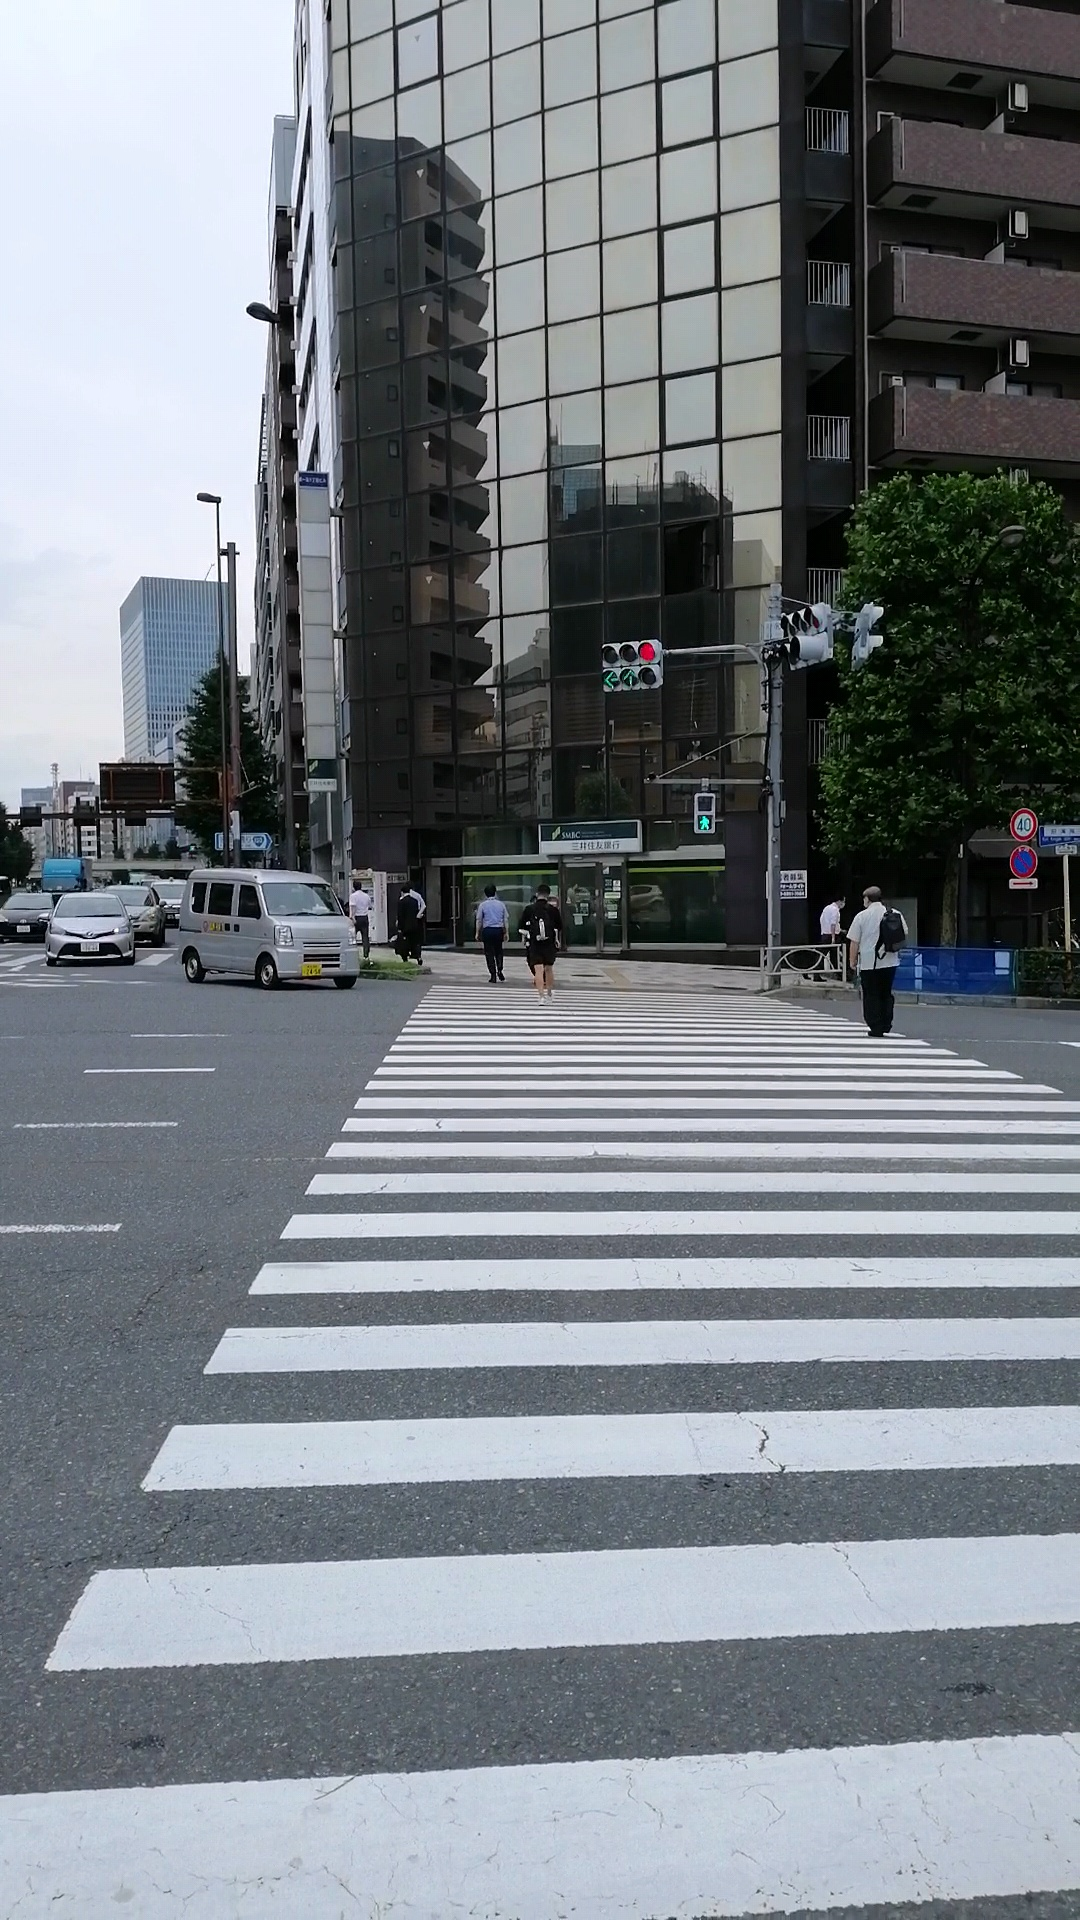green: (692, 793, 716, 833)
